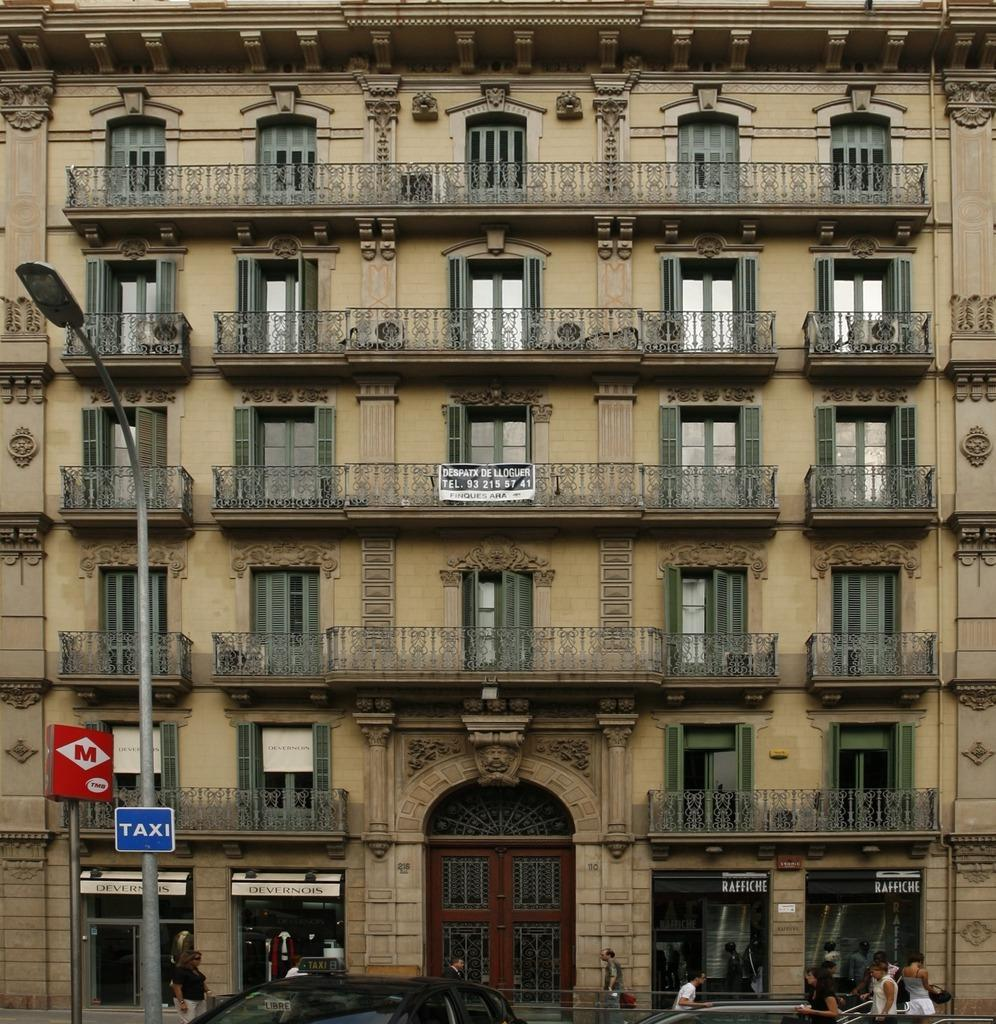window: (679, 568, 750, 678), (833, 567, 903, 678), (100, 567, 168, 677), (252, 568, 320, 678), (463, 572, 535, 672), (681, 723, 740, 834), (841, 722, 900, 832), (105, 722, 164, 832), (258, 722, 316, 833), (255, 406, 318, 508), (467, 405, 530, 507), (837, 407, 900, 509), (105, 407, 167, 509), (679, 406, 741, 508), (463, 259, 525, 353), (832, 112, 894, 206), (101, 260, 163, 353), (680, 261, 742, 354), (836, 259, 898, 352), (466, 112, 528, 205), (255, 260, 316, 353), (679, 112, 740, 205), (257, 114, 318, 207), (105, 116, 166, 209)
